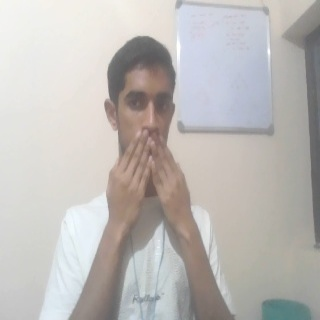Thank You: (94, 131, 210, 251)
